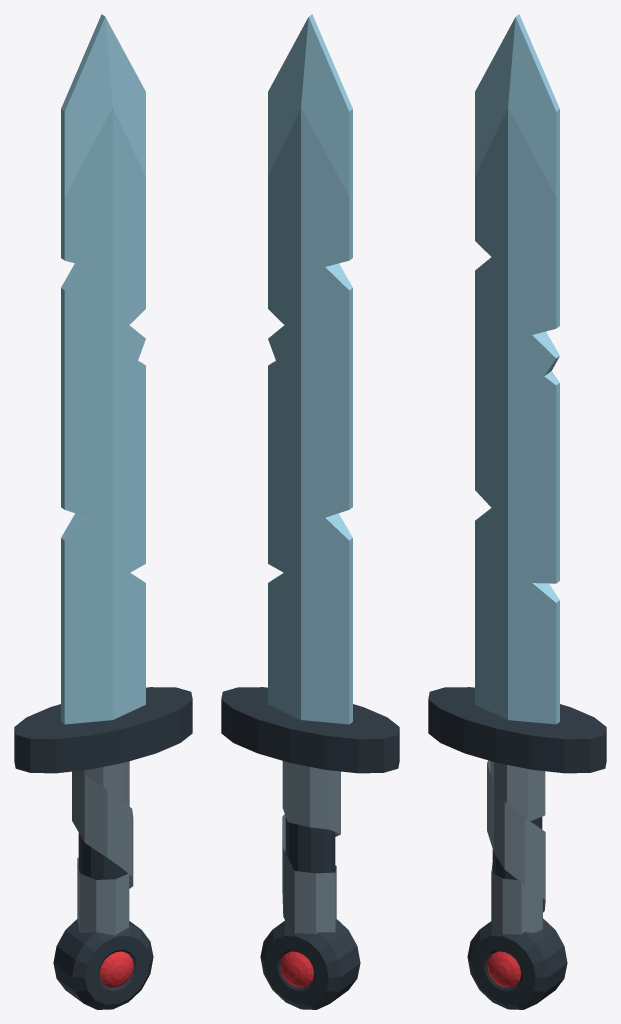
File: Sword.fbx
3 renders of one model, left to right at view 1: azimuth 30°, elevation 25°; view 2: azimuth 150°, elevation 25°; view 3: azimuth 330°, elevation 25°, orthographic.
Parts seen in each view (by area): view 1: Sword; view 2: Sword; view 3: Sword.
Boxes of the visible parts, x1=… form: Sword: x1=14, y1=14, x2=192, y2=1009; Sword: x1=221, y1=14, x2=399, y2=1009; Sword: x1=428, y1=14, x2=606, y2=1009.
Bounding box in the file's own units: 108 × 580 × 45.
